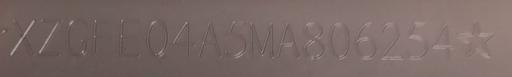letter: (8, 15, 38, 60), (35, 16, 65, 59), (116, 17, 144, 58), (88, 18, 116, 57), (300, 20, 328, 59), (64, 17, 90, 58), (406, 21, 432, 62), (146, 17, 172, 56), (169, 18, 195, 57), (250, 21, 276, 60), (432, 23, 458, 60), (222, 19, 246, 58), (353, 21, 377, 60), (380, 21, 402, 60), (328, 20, 350, 57), (199, 21, 221, 58), (277, 22, 299, 59)
